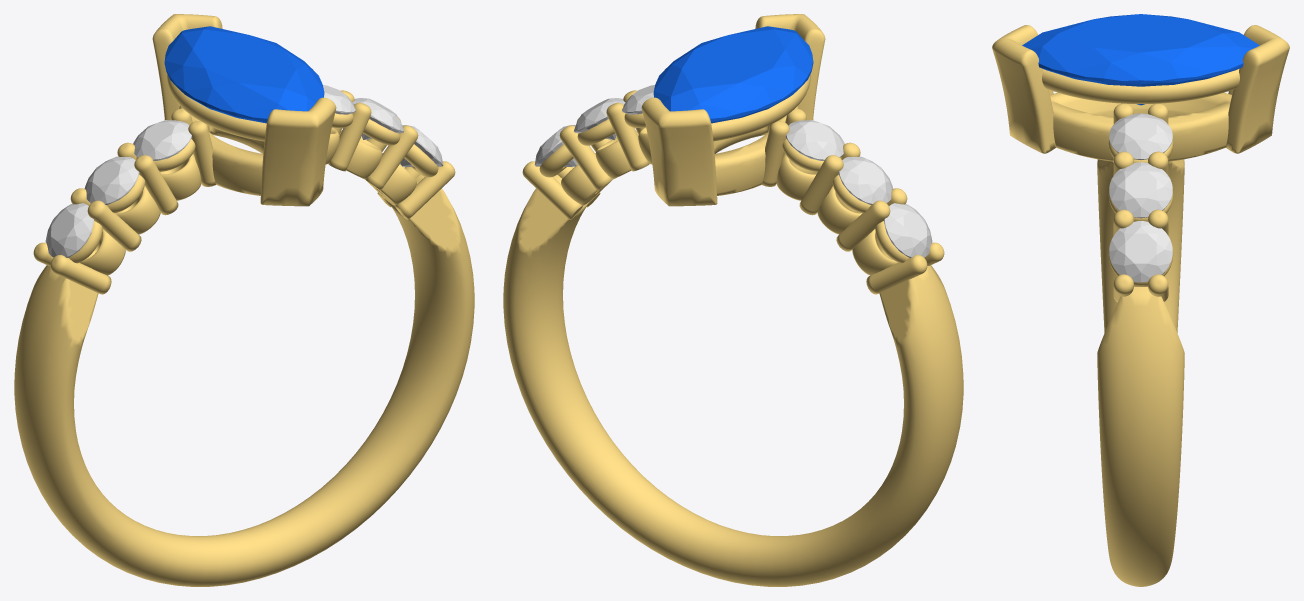
Rendered from bluesapphire-marquise-yellowgold-protectededges2prongs-taperedband-7stone.glb.
The picture shows the model from 3 angles, left to right: view 1: azimuth 30°, elevation 25°; view 2: azimuth 150°, elevation 25°; view 3: azimuth 270°, elevation 25°; orthographic projection.
Visible parts, largest first — view 1: metal, stone.002, dia.001, dia.009, dia.010, dia.012, dia.011; view 2: metal, stone.002, dia.001, dia.009, dia.010, dia.012, dia.011; view 3: metal, stone.002, dia.011, dia.012, dia.013.
Part boxes in pixels (<box>): metal: <box>14,14,474,586</box>; stone.002: <box>164,26,324,123</box>; dia.001: <box>45,203,93,257</box>; dia.009: <box>84,156,139,204</box>; dia.010: <box>133,120,191,160</box>; dia.012: <box>352,98,403,139</box>; dia.011: <box>400,125,443,166</box>; metal: <box>503,14,963,586</box>; stone.002: <box>653,26,813,123</box>; dia.001: <box>884,203,932,257</box>; dia.009: <box>838,156,893,204</box>; dia.010: <box>786,120,844,160</box>; dia.012: <box>574,98,625,139</box>; dia.011: <box>534,125,577,166</box>; metal: <box>992,25,1289,586</box>; stone.002: <box>1022,14,1259,105</box>; dia.011: <box>1109,221,1172,282</box>; dia.012: <box>1109,162,1172,218</box>; dia.013: <box>1109,113,1172,159</box>.
Size of the model in its own units: 20.5 by 22.92 by 11.69.
